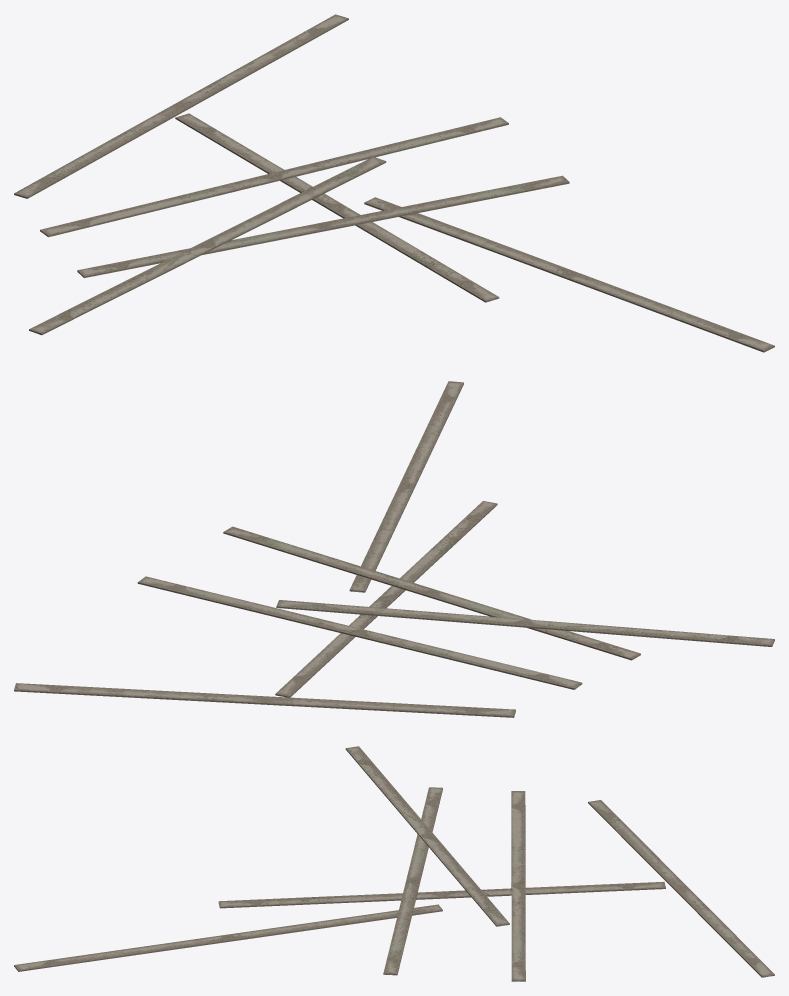
File: JalousiePieceB.fbx
The picture shows the model from 3 angles, top to bottom: view 1: azimuth 30°, elevation 25°; view 2: azimuth 150°, elevation 25°; view 3: azimuth 270°, elevation 25°; orthographic projection. The views are drawn at different scales.
Parts seen in each view (by area): view 1: JalousiePieceB; view 2: JalousiePieceB; view 3: JalousiePieceB.
Boxes of the visible parts, x1=… form: JalousiePieceB: x1=14, y1=14, x2=774, y2=352; JalousiePieceB: x1=14, y1=381, x2=774, y2=717; JalousiePieceB: x1=14, y1=746, x2=774, y2=981.
Bounding box in the file's own units: 157 × 1.23 × 215.
